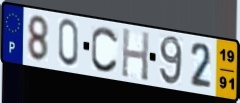0: (57, 18, 80, 70)
2: (189, 41, 213, 91)
8: (26, 14, 50, 64)
9: (158, 35, 185, 87)
C: (90, 25, 120, 75)
H: (120, 26, 151, 84)
